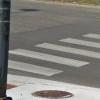Crosswalk: (12, 38, 97, 80)
